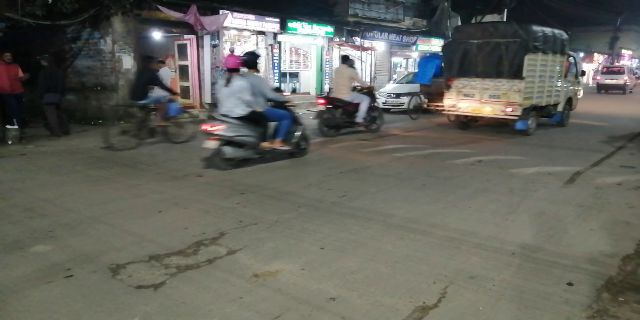Minitruck: (443, 23, 582, 133)
Motorbike: (202, 51, 308, 168), (314, 53, 384, 138)
